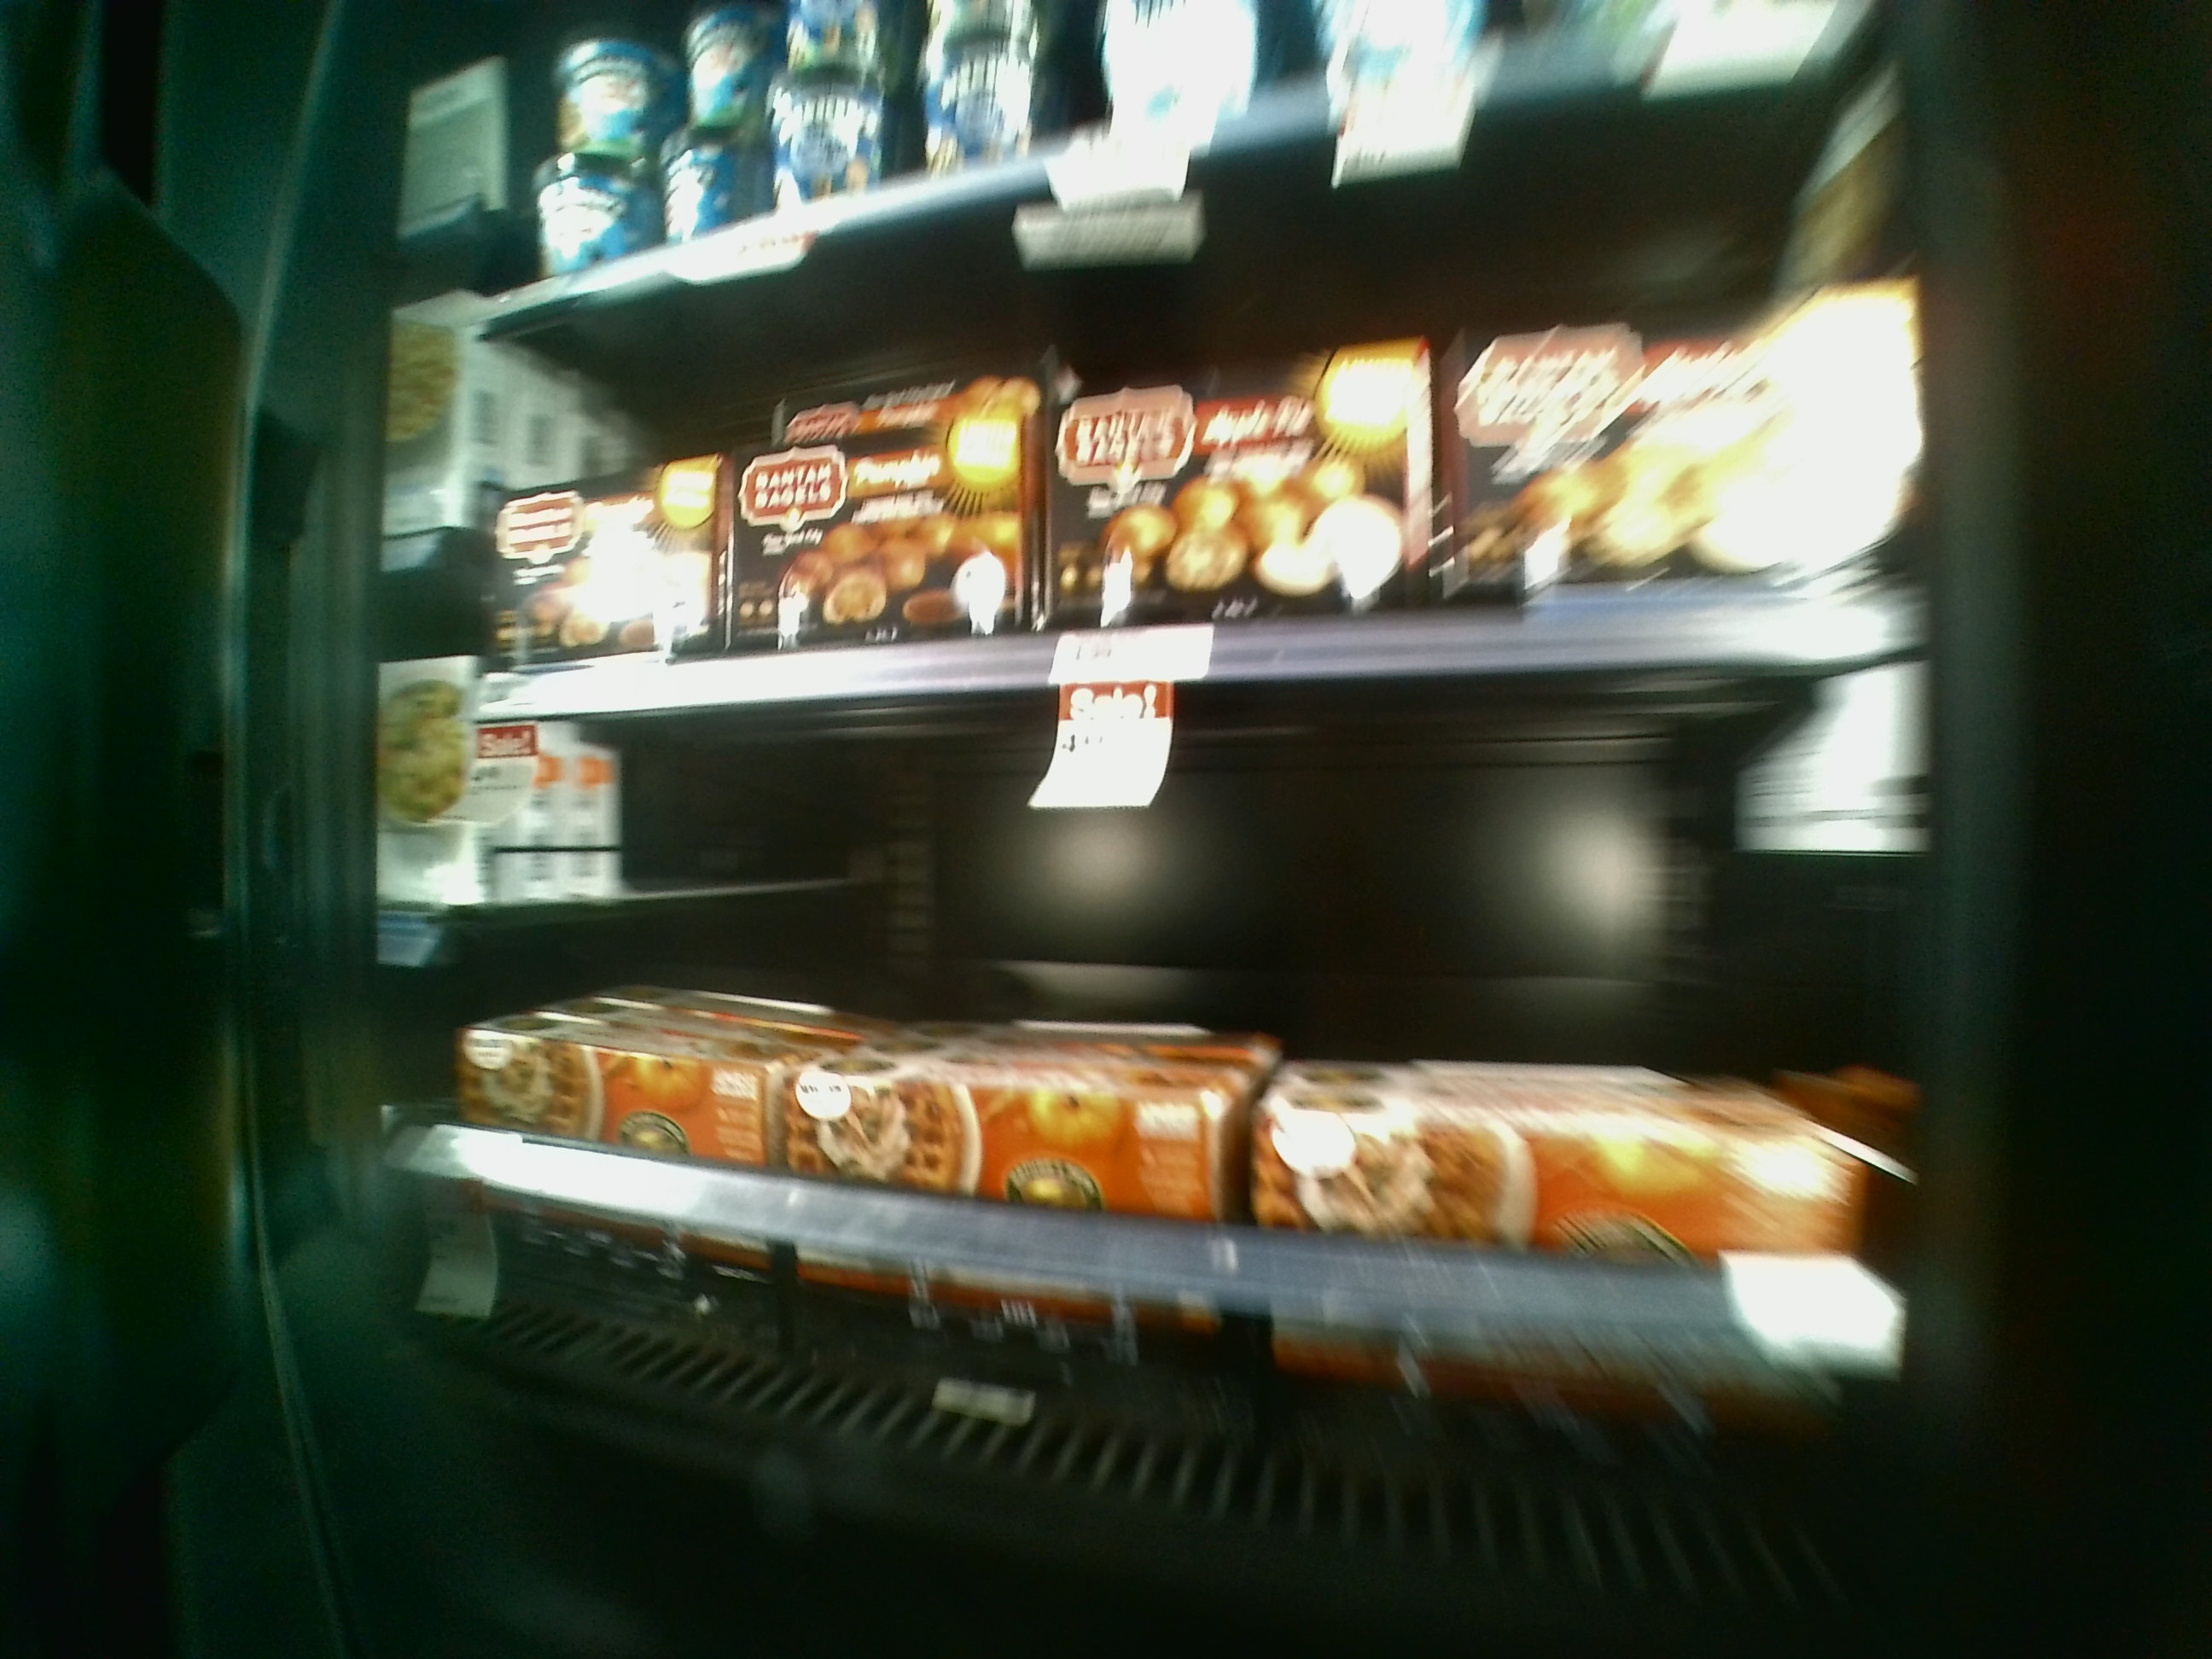shelf: (441, 688, 1919, 1452), (467, 289, 1918, 678)
